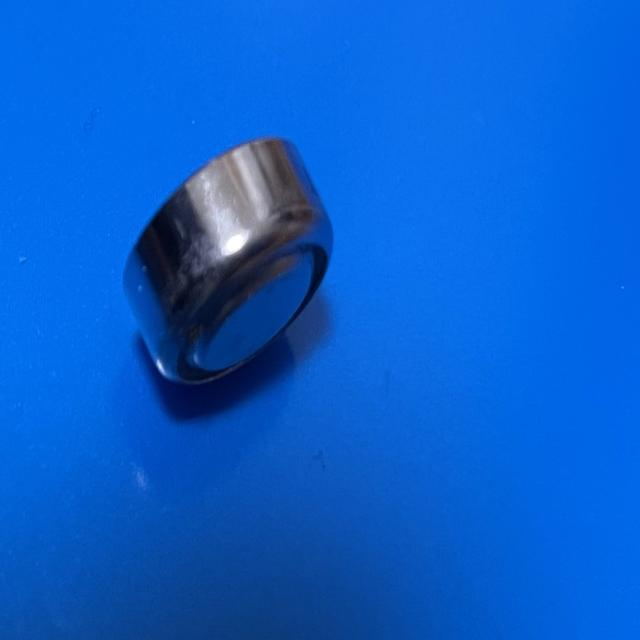COIN: (122, 135, 336, 389)
